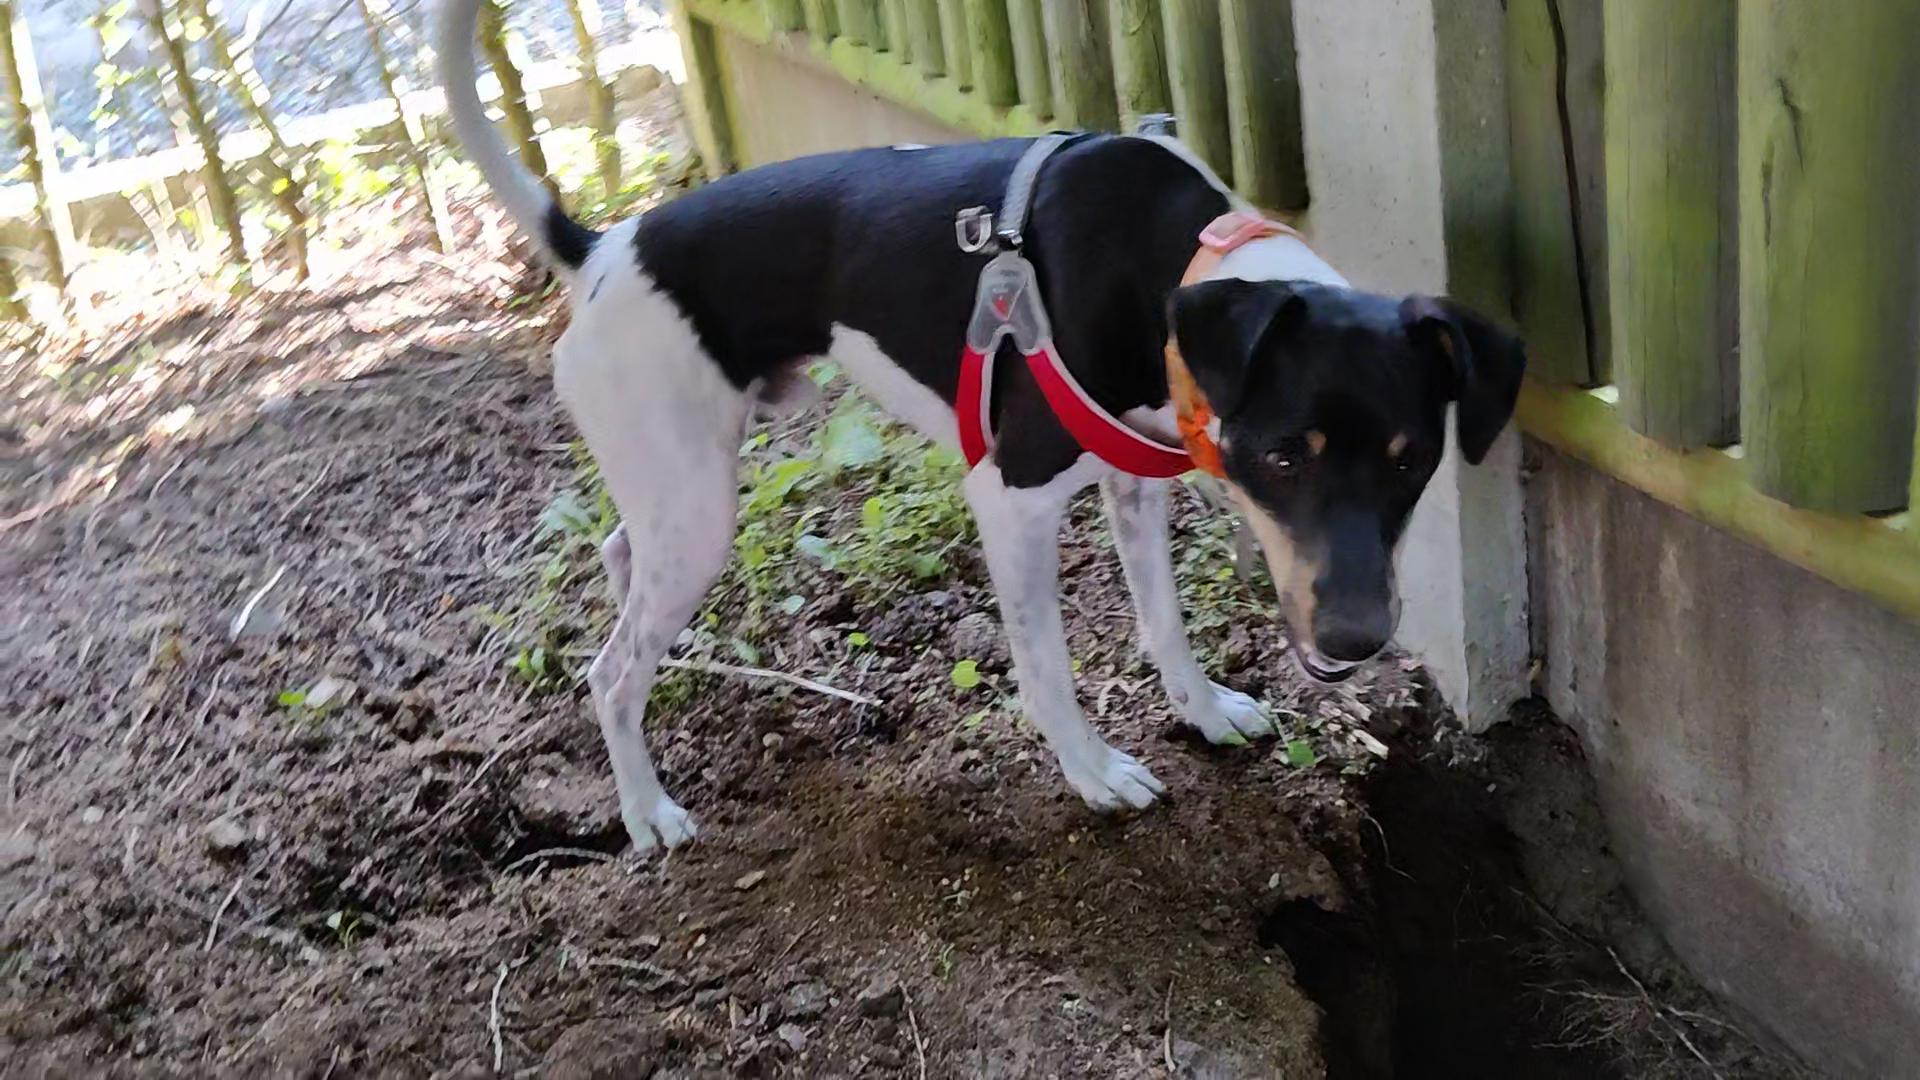Dog: (400, 0, 1556, 880)
